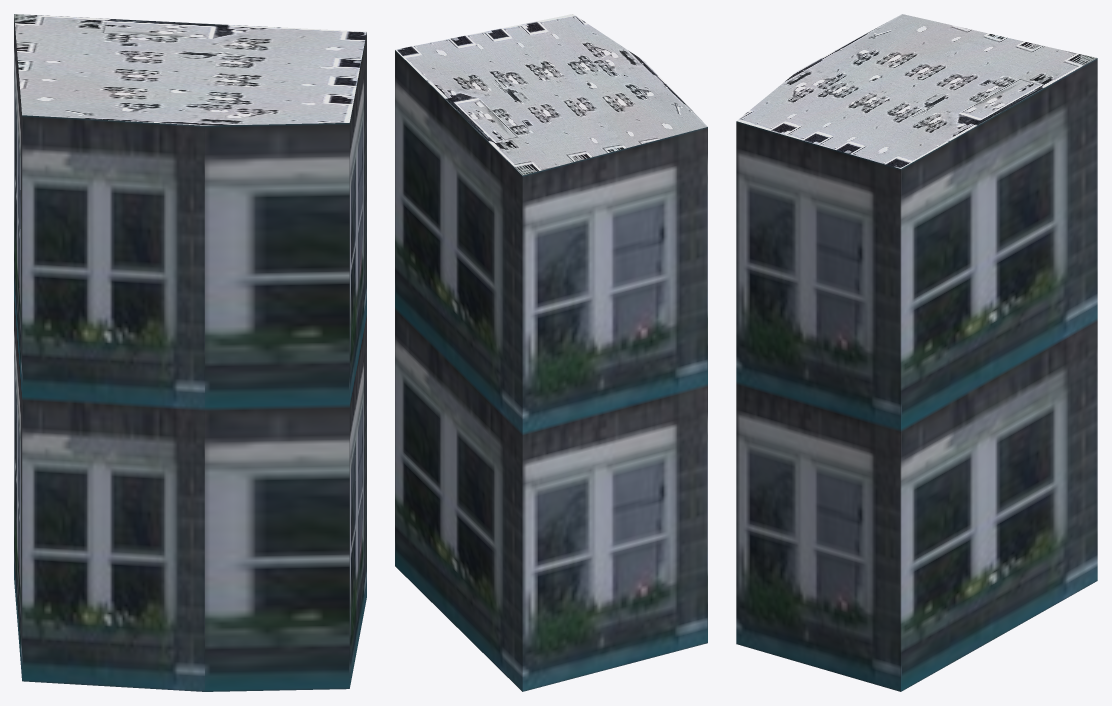
The model's file is ResTex__3269.fbx.
3 renders of one model, left to right at view 1: azimuth 30°, elevation 25°; view 2: azimuth 150°, elevation 25°; view 3: azimuth 270°, elevation 25°, orthographic. The views are drawn at different scales.
Parts seen in each view (by area): view 1: CityEngineMaterial_11_m, CityEngineMaterial_m; view 2: CityEngineMaterial_11_m, CityEngineMaterial_m; view 3: CityEngineMaterial_11_m, CityEngineMaterial_m.
Boxes of the visible parts, x1,y1,x2,y2 form: CityEngineMaterial_11_m: (14, 14, 366, 691); CityEngineMaterial_m: (14, 14, 366, 125); CityEngineMaterial_11_m: (395, 50, 707, 691); CityEngineMaterial_m: (395, 14, 707, 175); CityEngineMaterial_11_m: (736, 58, 1097, 691); CityEngineMaterial_m: (737, 14, 1096, 168).
Bounding box in the file's own units: 3.81 × 6 × 3.75.
2 materials, 2 textured.
